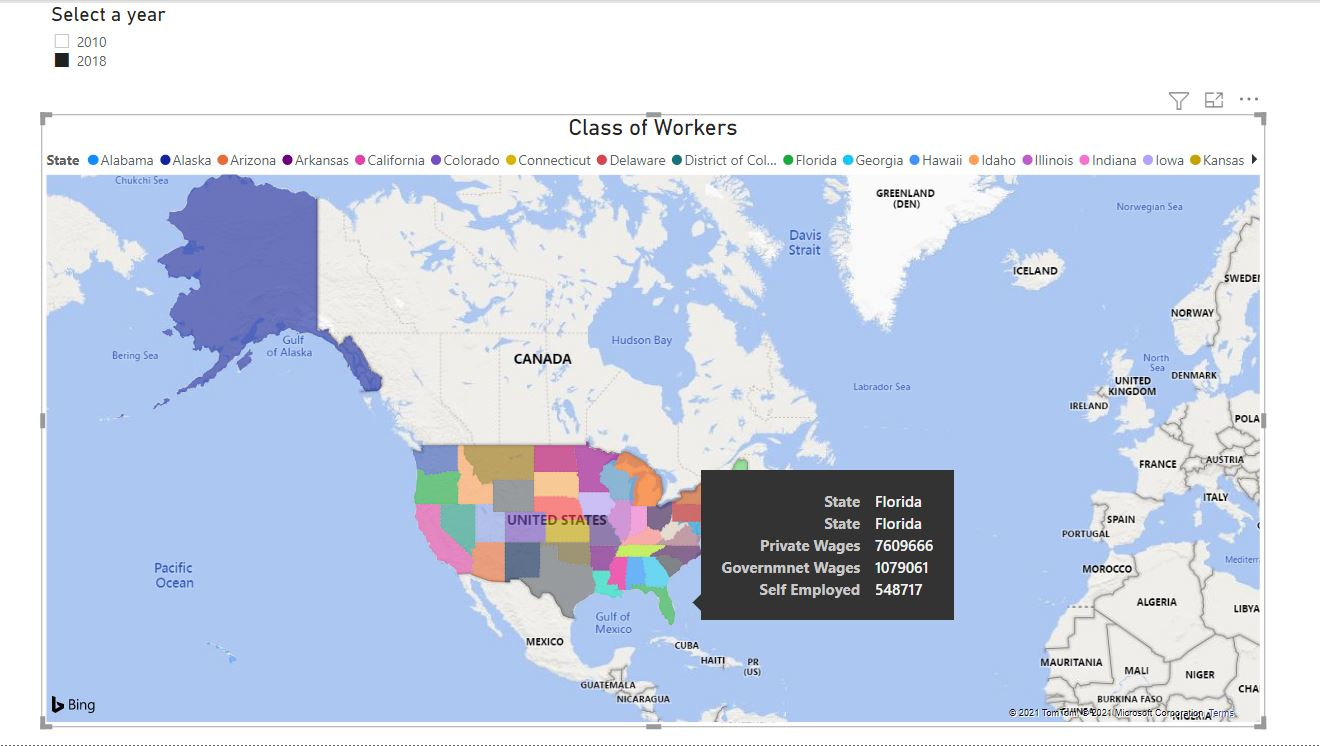

The page's visual inventory and layout, read from the dashboard file:
{"tool":"powerbi","page":{"name":"Page 3","canvas":[1280,720],"ordinal":2},"visuals":[{"type":"filledMap","title":"Class of Workers","fields":{"Category":["Final.State"],"Series":["Final.State"]},"box":[39.7,107.9,1186.4,594.8],"z":0},{"type":"slicer","title":"Select a year","fields":{"Values":["Final.Year"]},"box":[39.7,0,130.1,93.6],"z":1000}]}

Visuals, with their boxes on the page's 1280x720 design canvas (x1, y1, x2, y2). These are canvas units, not pixel positions in the 1320x746 screenshot, which may show the page scaled, cropped or inside an application window:
"Class of Workers" filledMap: box=[40, 108, 1226, 703]
"Select a year" slicer: box=[40, 0, 170, 94]
